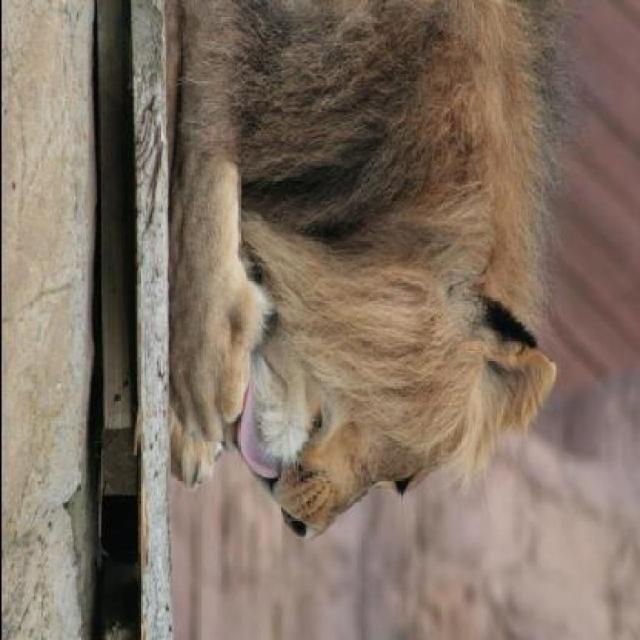Lion: (157, 1, 578, 582)
